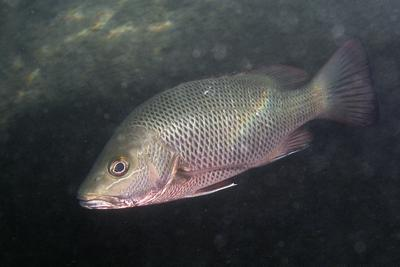Lutjanidae -Snappers-: (72, 30, 383, 214)
